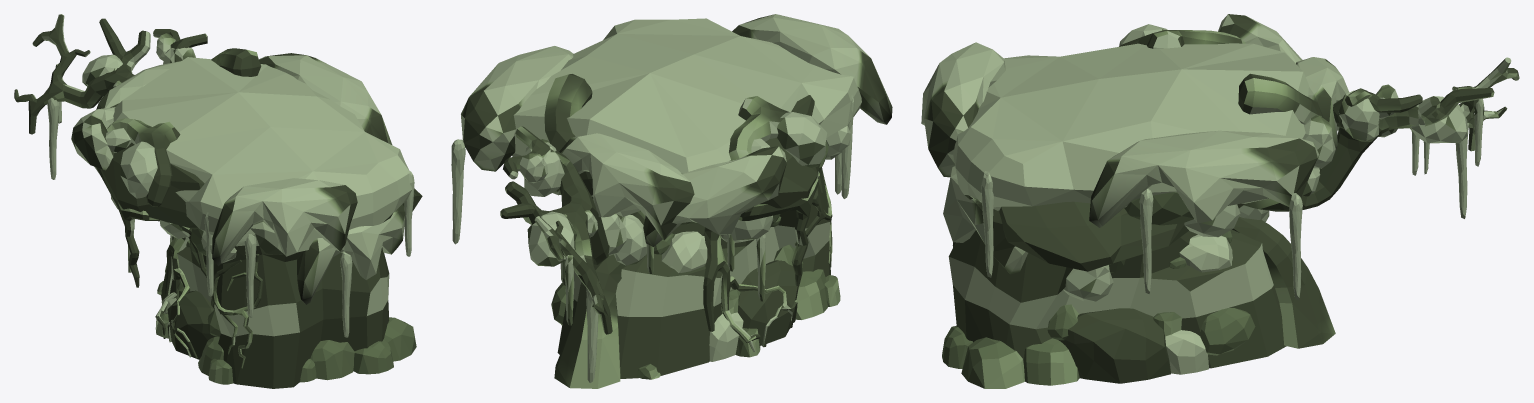
The model's file is EA_Swamp_Island_Small_05d.glb.
The picture shows the model from 3 angles, left to right: view 1: azimuth 30°, elevation 25°; view 2: azimuth 150°, elevation 25°; view 3: azimuth 270°, elevation 25°; orthographic projection. The views are drawn at different scales.
Visible parts, largest first — view 1: EA_Swamp_Island_Small_05d; view 2: EA_Swamp_Island_Small_05d; view 3: EA_Swamp_Island_Small_05d.
Boxes of the visible parts, box(x1,y1,x2,y2) form: EA_Swamp_Island_Small_05d: box(14, 14, 422, 388); EA_Swamp_Island_Small_05d: box(451, 14, 892, 388); EA_Swamp_Island_Small_05d: box(921, 14, 1519, 388).
Bounding box in the file's own units: 9.97 × 8.1 × 15.72.
Materials: 1 (1 with a texture image).
